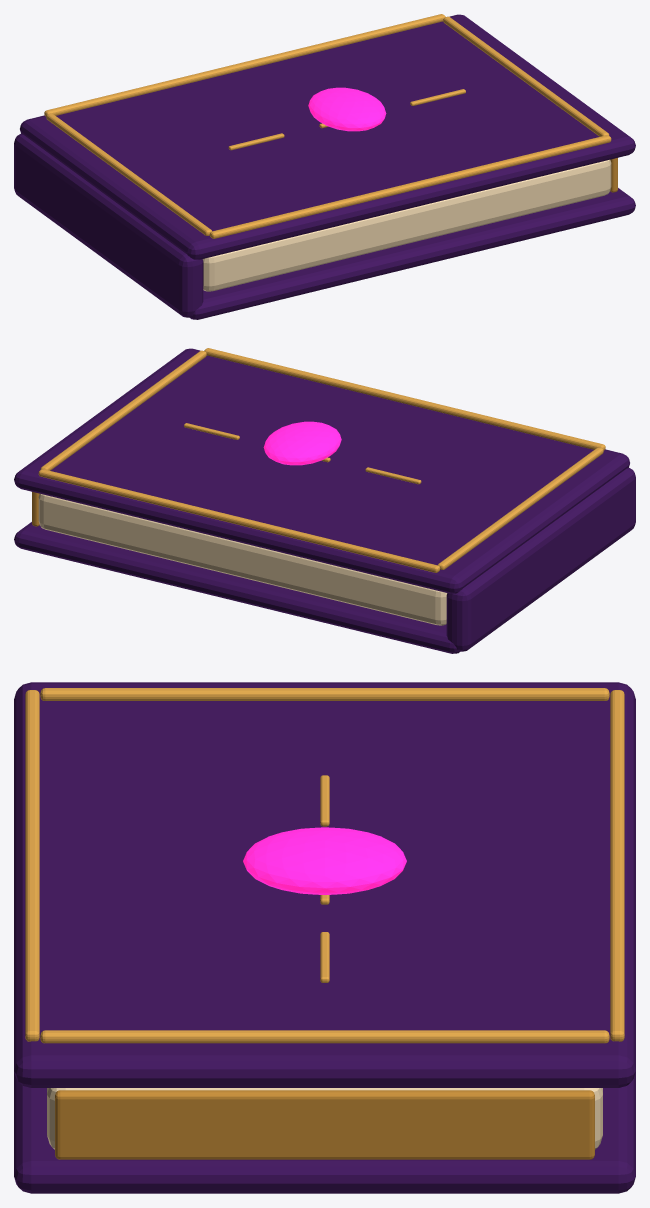
Rendered from harmony_magic_book.glb.
3 views of the same model, one above another, from view 1: azimuth 30°, elevation 25°; view 2: azimuth 150°, elevation 25°; view 3: azimuth 270°, elevation 25° (orthographic). The views are drawn at different scales.
Parts seen in each view (by area): view 1: FrontCover, PageBlock, Spine, BackCover, GoldBottom, GoldTop, HarmonyGem, GoldLeft, GoldRight; view 2: FrontCover, PageBlock, Spine, BackCover, GoldTop, GoldBottom, HarmonyGem, GoldLeft, GoldRight; view 3: FrontCover, PageGoldEdge, BackCover, HarmonyGem, GoldRight, GoldLeft, GoldBottom, GoldTop, PageBlock.
Part boxes in pixels (x1,y1,x2,y2): FrontCover: (20,14,635,259); PageBlock: (202,159,611,291); Spine: (14,133,203,317); BackCover: (190,188,635,319); GoldBottom: (209,135,611,238); GoldTop: (44,14,445,116); HarmonyGem: (308,87,386,131); GoldLeft: (46,113,211,235); GoldRight: (443,16,609,136); FrontCover: (14,348,629,593); PageBlock: (38,493,447,625); Spine: (446,467,635,651); BackCover: (14,522,459,653); GoldTop: (38,469,440,572); GoldBottom: (204,348,605,450); HarmonyGem: (263,421,341,465); GoldLeft: (438,447,603,569); GoldRight: (40,350,206,470); FrontCover: (14,682,635,1087); PageGoldEdge: (55,1090,594,1159); BackCover: (14,1071,635,1193); HarmonyGem: (243,827,406,894); GoldRight: (40,1030,609,1043); GoldLeft: (40,688,609,700); GoldBottom: (25,690,39,1041); GoldTop: (610,690,624,1041); PageBlock: (47,1088,602,1149).
Bounding box in the file's own units: 3.51 × 0.7618 × 2.35.
